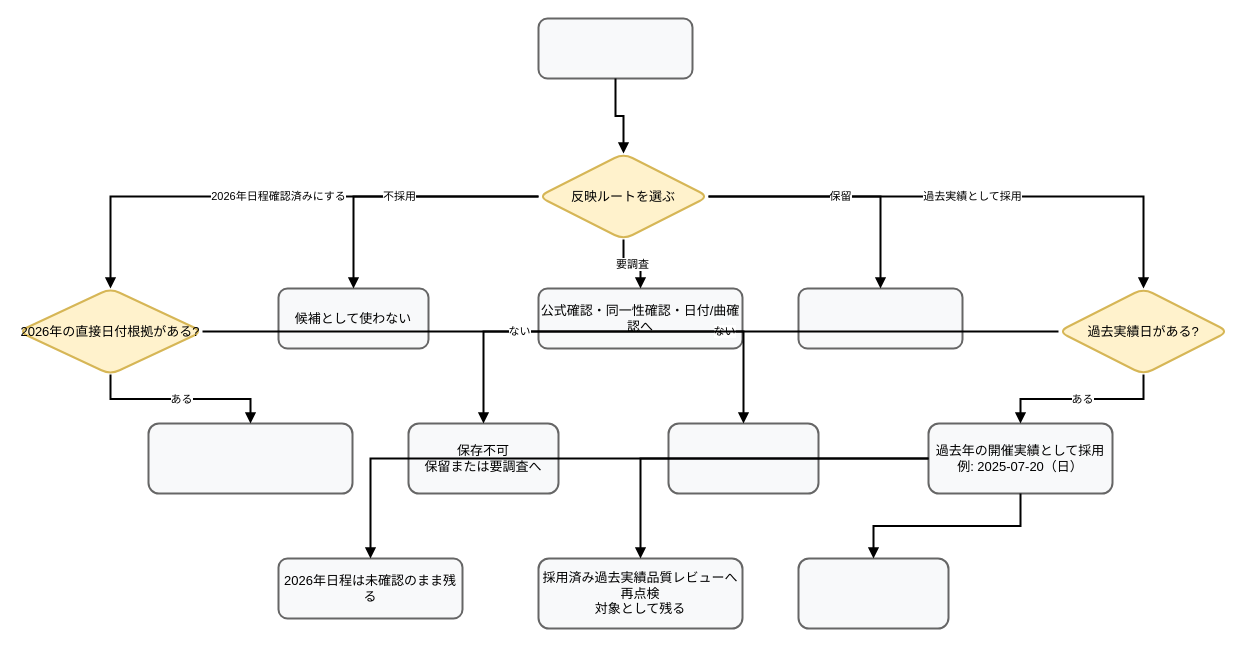
This 1246x646 diagram has some shape labels left out. Each missing label, with the centre of its shape:
2026年開催日として確認済みに進め る: (250,458)
保存不可 過去実績・保留・要調査へ: (743,458)
文脈だけ残して今回は進めない: (880,318)
曲は確定登録しない 候補があっても別工程扱い: (873,593)
登録済みイベント調査カード: (615,48)
